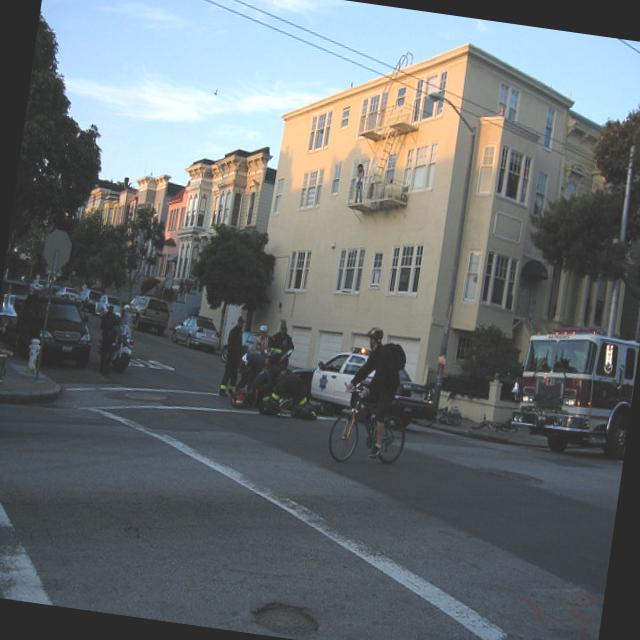Vehicle: (506, 323, 640, 459), (308, 341, 440, 431), (11, 288, 96, 364), (170, 313, 223, 354), (123, 295, 172, 336), (107, 314, 138, 377), (91, 293, 123, 320), (79, 289, 104, 313), (54, 286, 80, 302), (30, 280, 46, 292)
